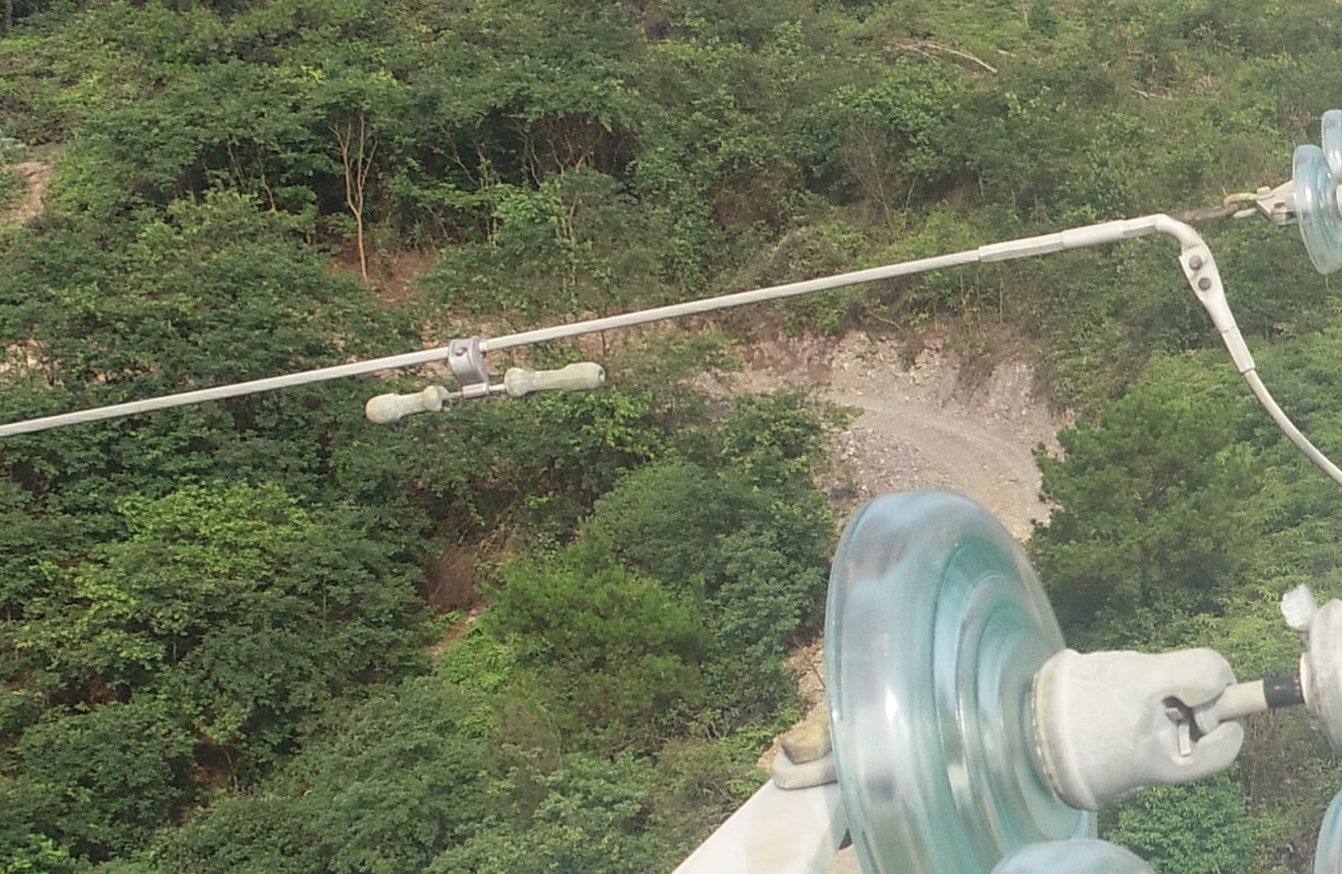damper: (363, 333, 611, 427)
